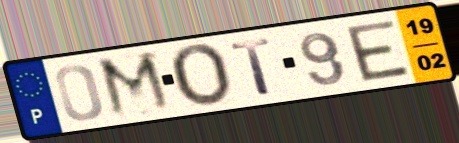0: (53, 63, 106, 122)
9: (297, 30, 347, 87)
E: (342, 17, 414, 83)
M: (93, 49, 177, 121)
O: (167, 42, 235, 109)
T: (228, 36, 275, 98)
